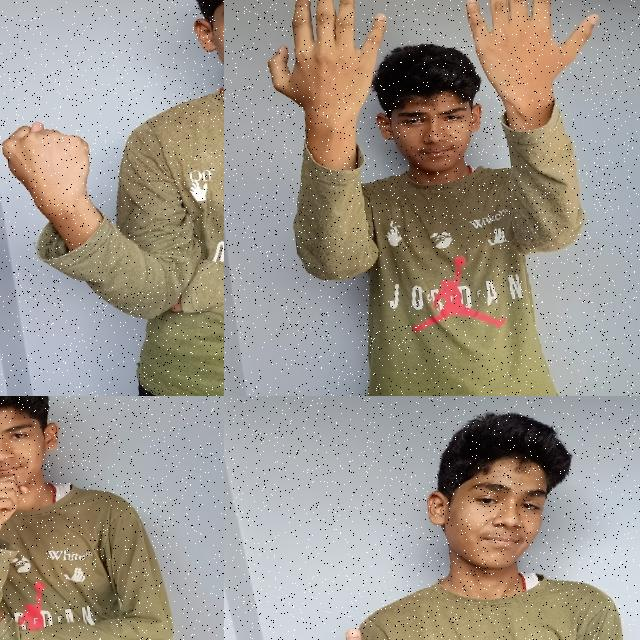Dulya: (0, 105, 119, 244)
Fist Mouth: (0, 396, 83, 554)
Moutza: (448, 0, 607, 128), (259, 0, 403, 138)
